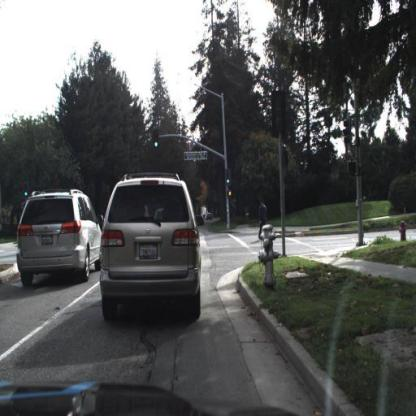car: (96, 167, 207, 333), (13, 168, 101, 309), (204, 208, 216, 226)
pedestrian: (257, 188, 272, 248)
trafficLight-Green: (154, 130, 162, 160), (22, 182, 30, 205), (153, 130, 161, 151), (224, 171, 232, 189), (24, 182, 32, 198)
